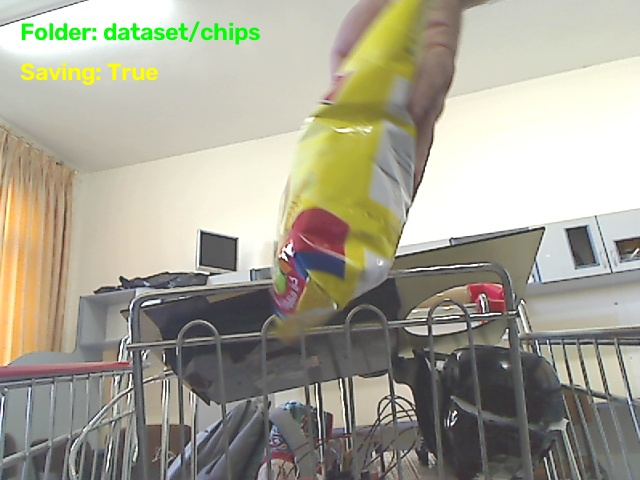chips: (272, 0, 427, 339)
